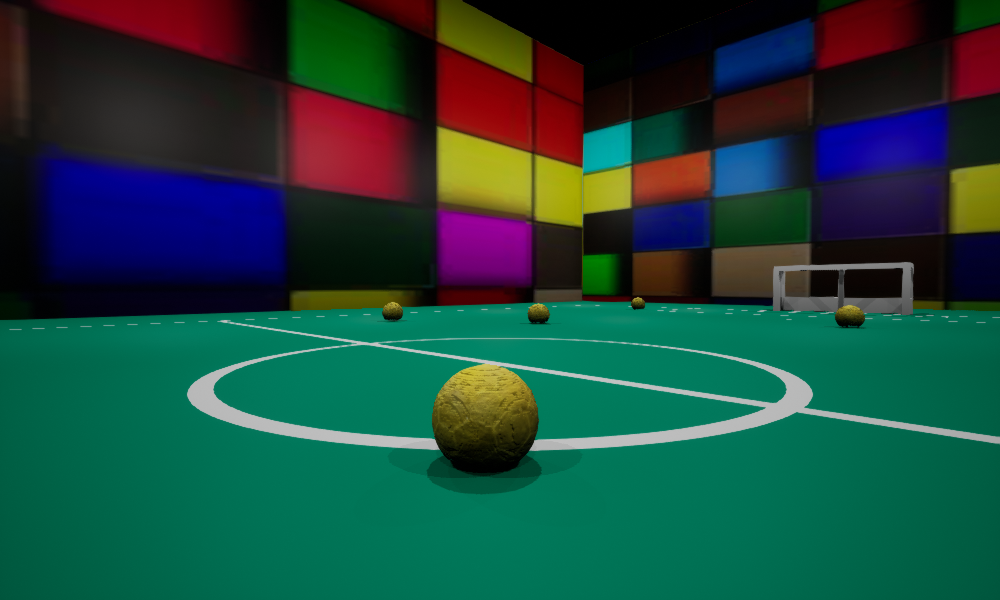b: (432, 364, 538, 470), (835, 305, 864, 327), (527, 303, 549, 323), (382, 302, 402, 319), (631, 297, 644, 309)
g: (773, 262, 913, 314)
